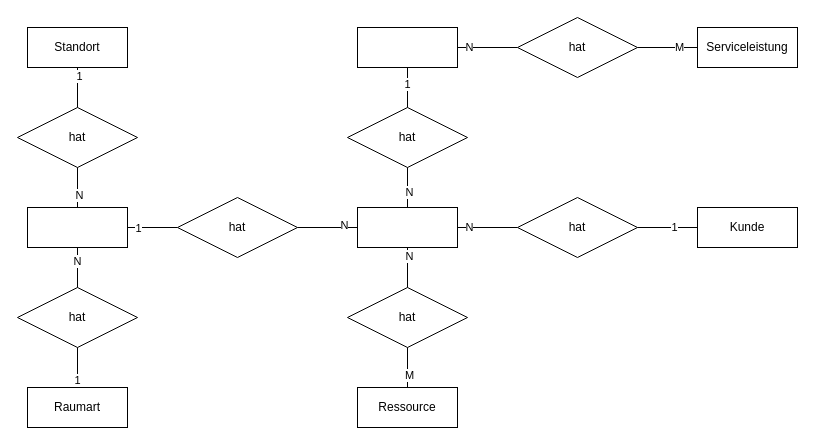
This 815x445 diagram has some shape labels left out. Here are the shapes that lost their labels. From the top down, the centre of each, then its label:
At (x=407, y=47): "Mitarbeiter".
At (x=77, y=227): "Raum".
At (x=407, y=227): "Buchung".
